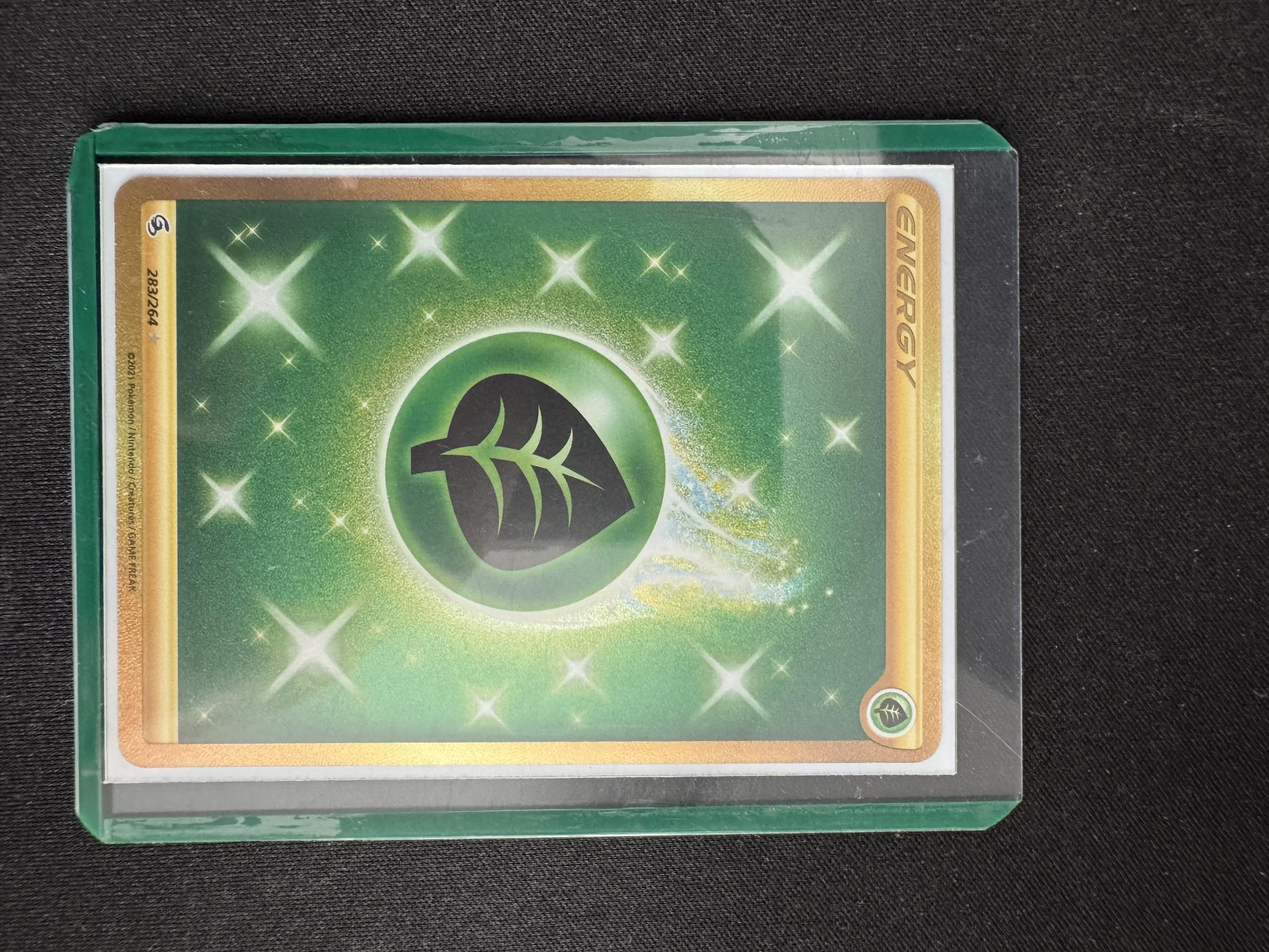card-2UtV: (114, 176, 942, 768)
